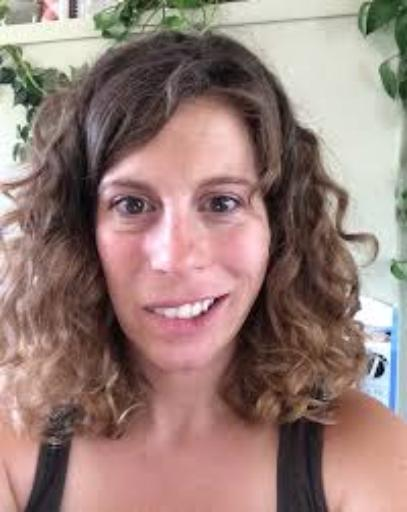left_eye: (200, 194, 247, 218)
left_lip_corner: (216, 290, 236, 308)
right_eye: (111, 194, 160, 218)
right_lip_corner: (137, 300, 153, 319)
